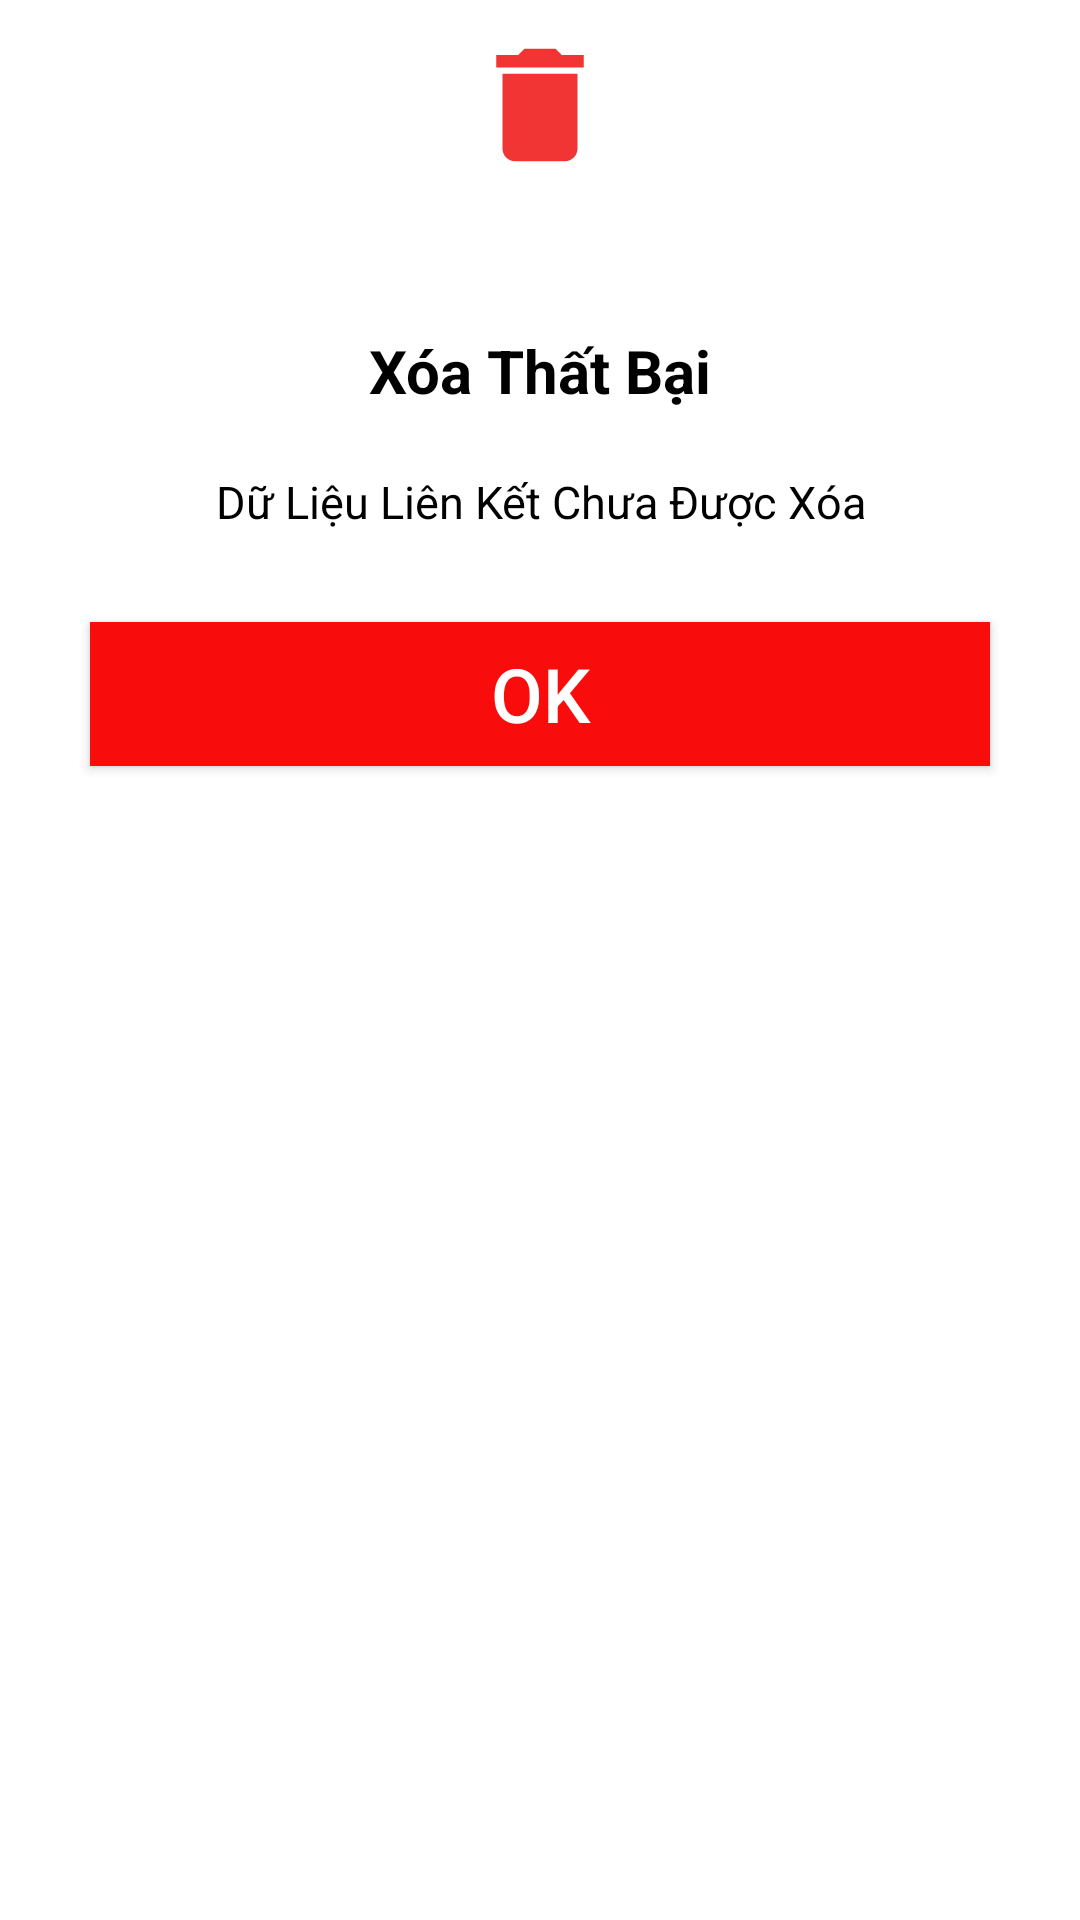

Icon bounding boxes for this 1080*1920 phone screenshot, format (x1, y1, x2, y2):
delete: (496, 48, 584, 162)
